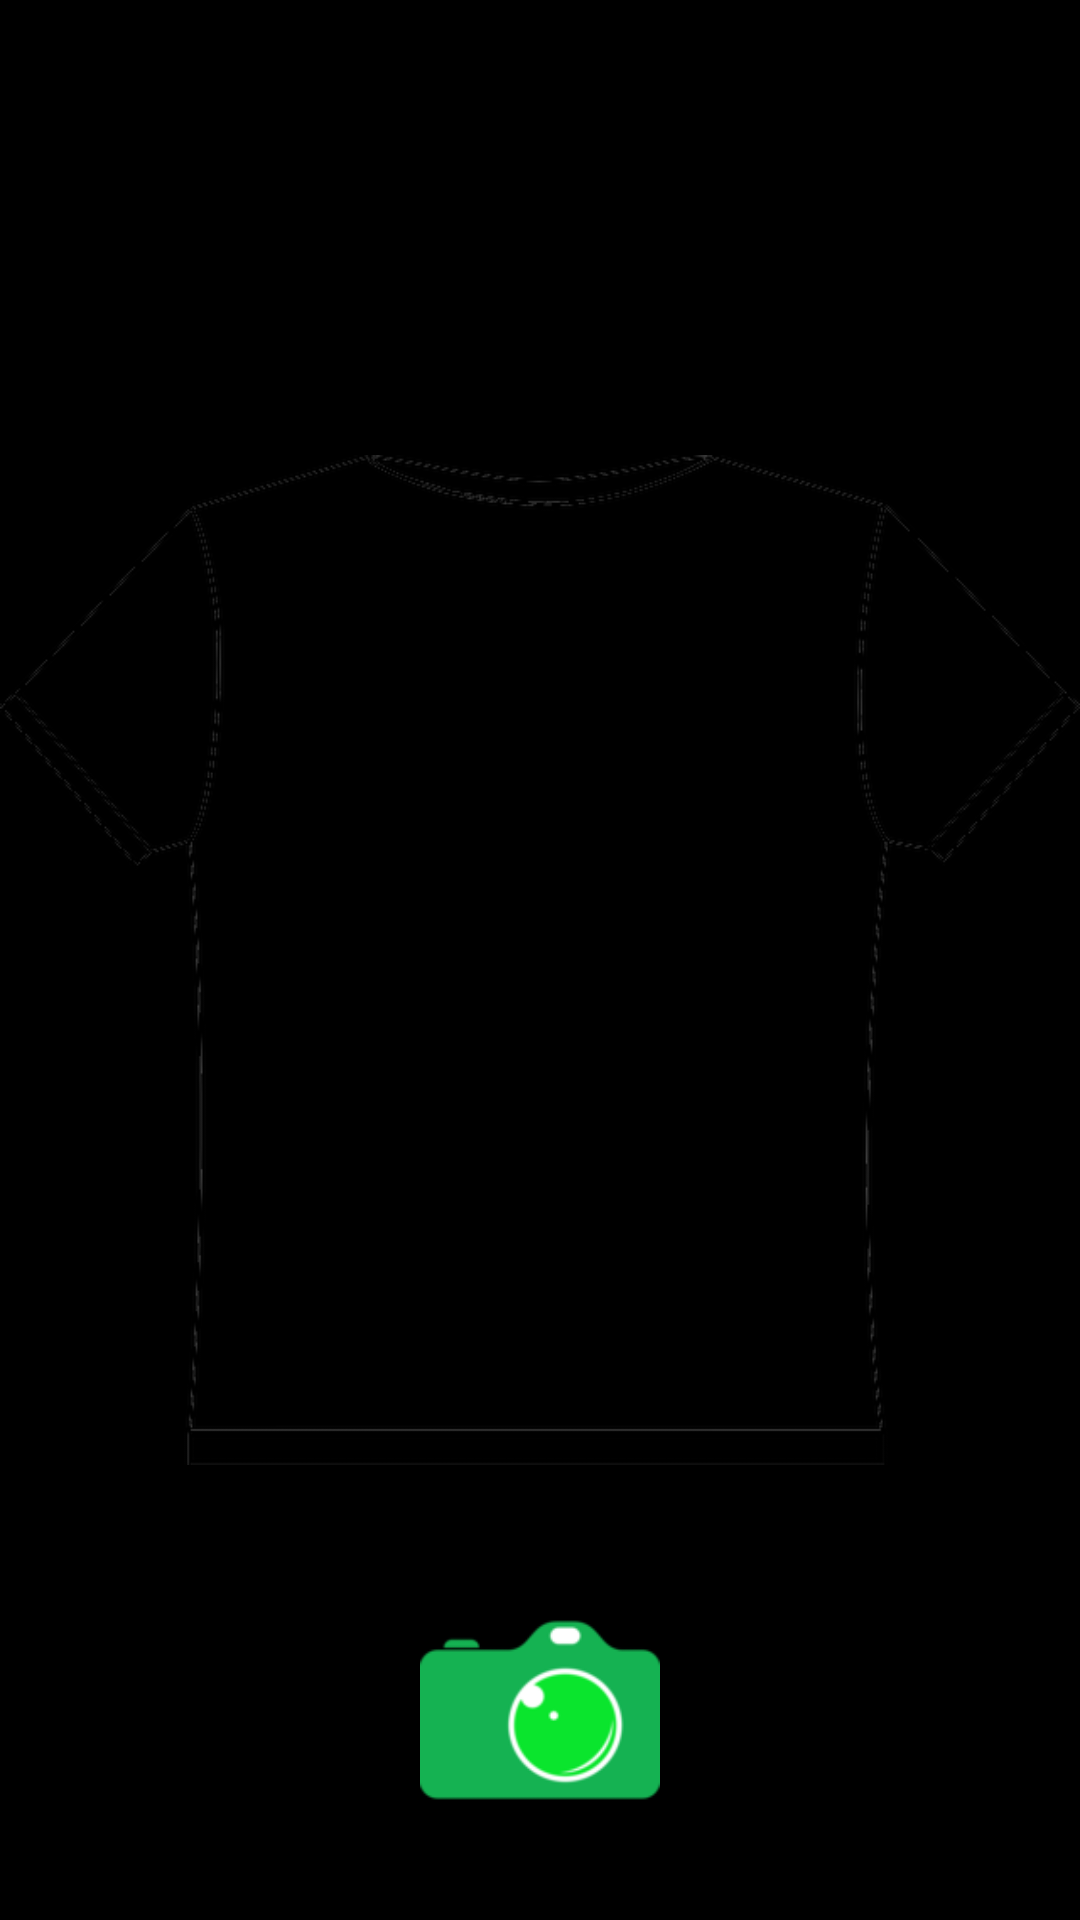

Icon bounding boxes for this 1080 x 1920 phone screenshot, format bbox=[x1, y1, x2, y2]:
camera: bbox=[420, 1620, 660, 1800]
